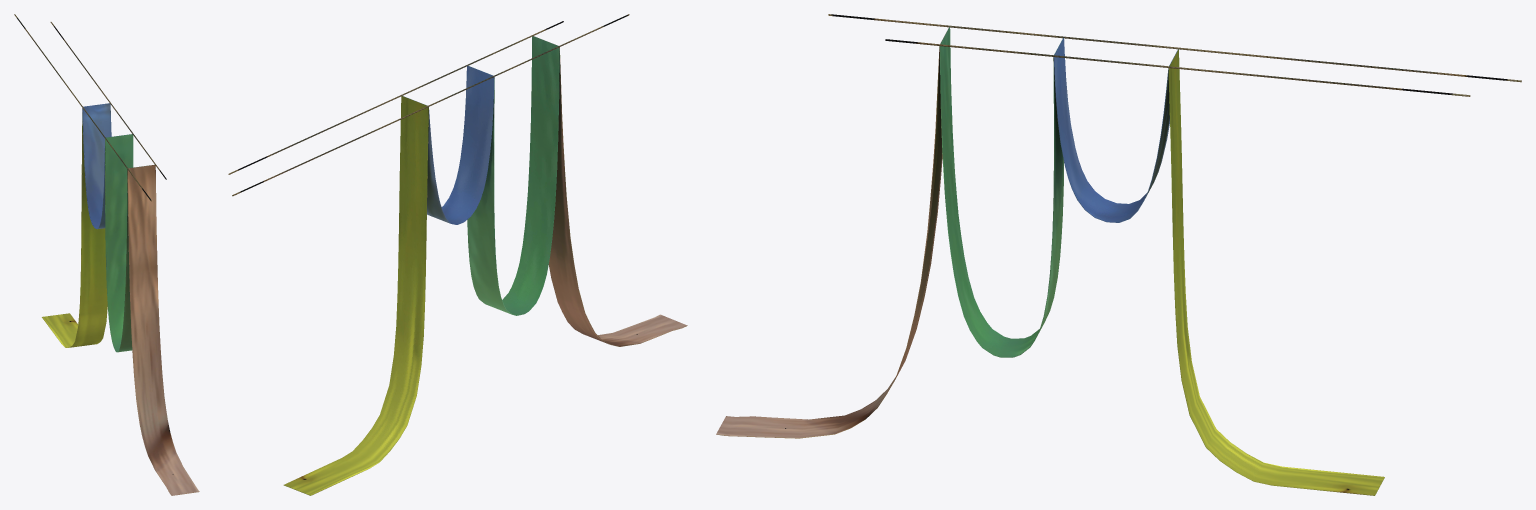
File: Hanging Silk.glb
3 views of the same model, side by side, from view 1: azimuth 30°, elevation 25°; view 2: azimuth 150°, elevation 25°; view 3: azimuth 270°, elevation 25° (orthographic). The views are drawn at different scales.
Parts seen in each view (by area): view 1: Silk Hanging_Export; view 2: Silk Hanging_Export; view 3: Silk Hanging_Export.
Part boxes in pixels (x1,y1,x2,y2): Silk Hanging_Export: (14,14,199,495); Silk Hanging_Export: (228,14,687,495); Silk Hanging_Export: (716,14,1521,495).
Size of the model in its own units: 5.19 by 10.91 by 19.32.
1 material, 1 textured.
